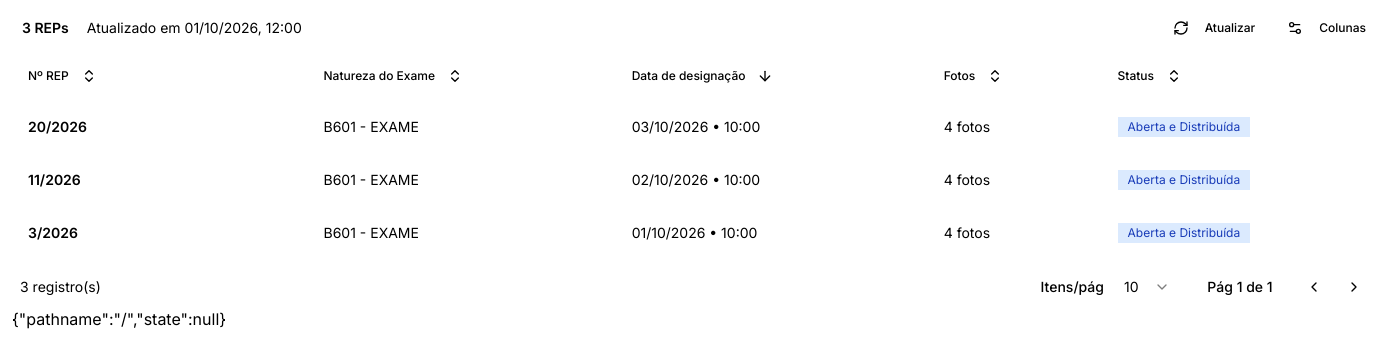
Test case: REPs do GDL no dashboard › ordena as colunas da lista e mantém o acesso à REP selecionada
The image size is (1390, 346).
Press the mouse on the button "Nº REP" at point(62, 76), box top-left (16, 60), bottom-right (109, 92)
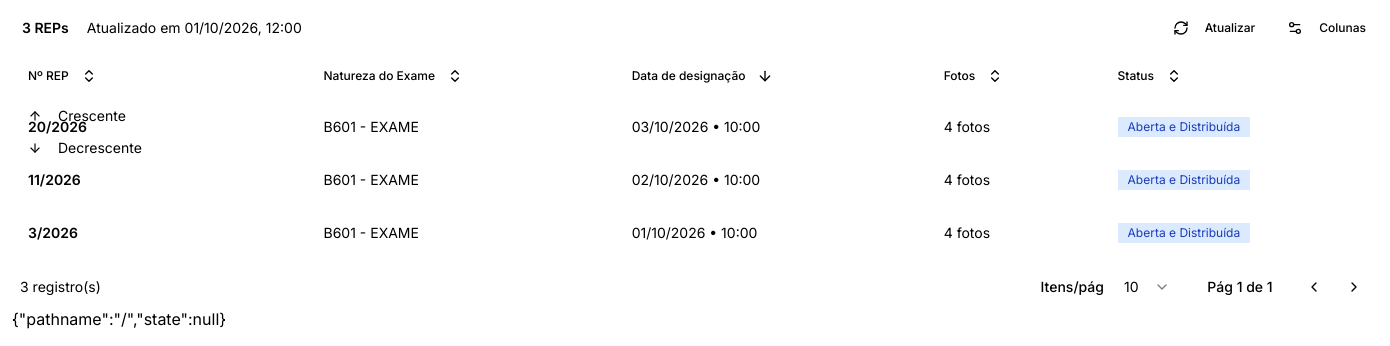
Click the menu item "Crescente" at point(77, 116), box top-left (28, 107), bottom-right (126, 124)
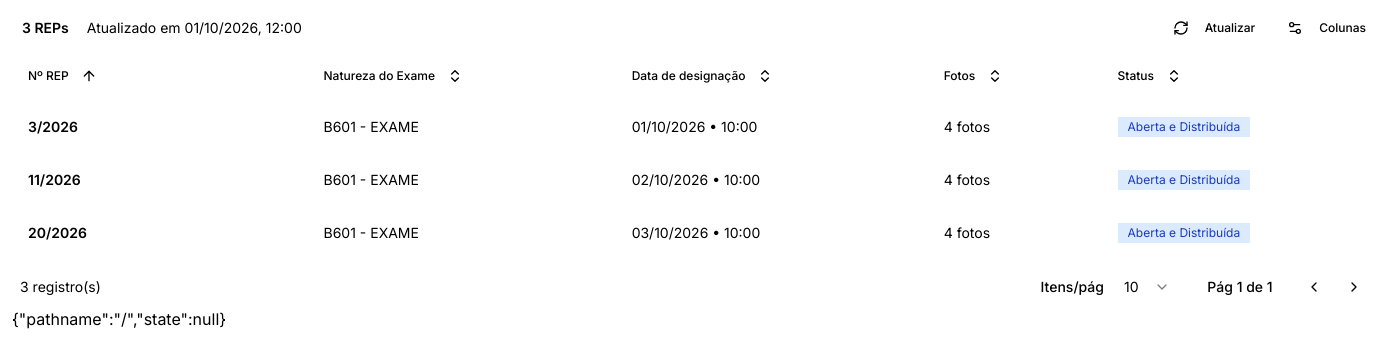
Press the mouse on the button "Nº REP" at point(62, 76), box top-left (16, 60), bottom-right (109, 92)
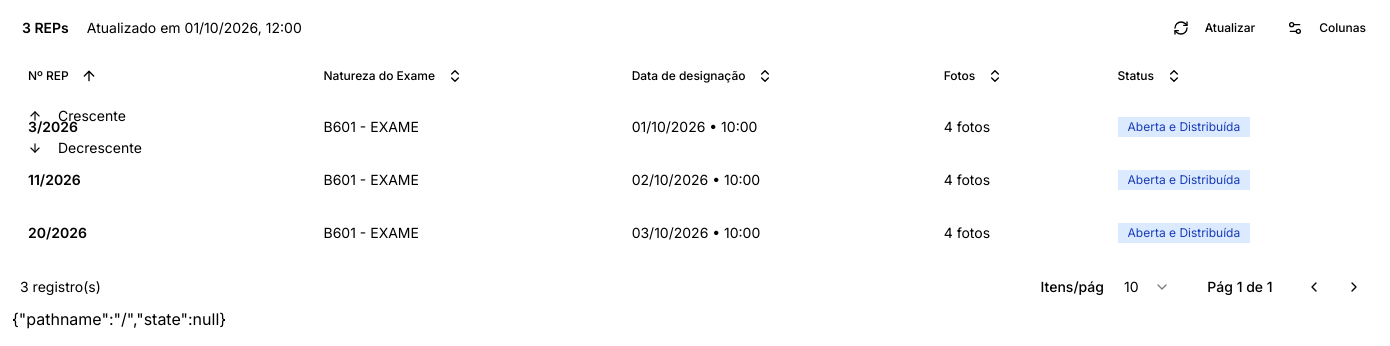
Click the menu item "Decrescente" at point(85, 148), box top-left (28, 139), bottom-right (142, 156)
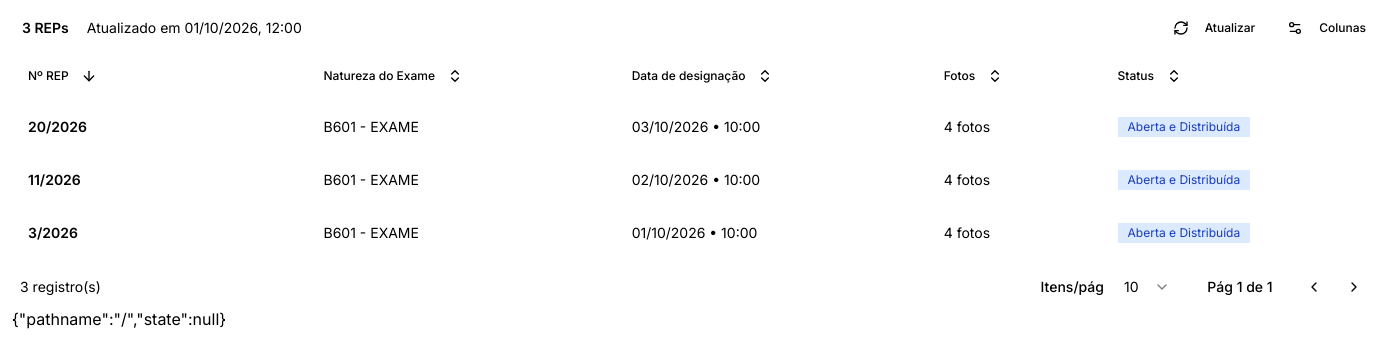
Click the button "20/2026" at point(92, 126), box top-left (28, 116), bottom-right (156, 136)
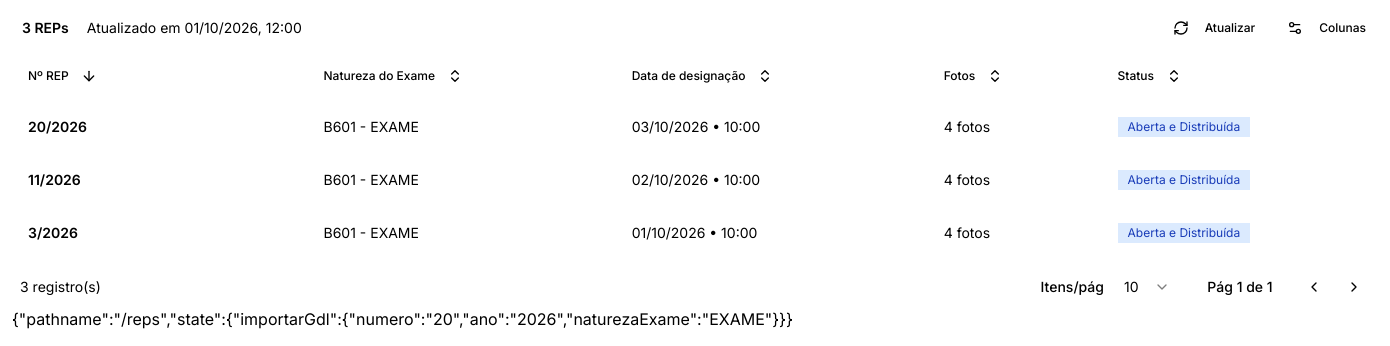
Expected: the text with test id "rota-atual" shows "\"numero\":\"20\"", top-left (12, 309), bottom-right (793, 329)
